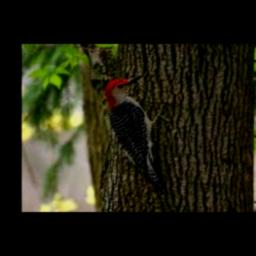Woodpecker: (105, 74, 170, 186)
